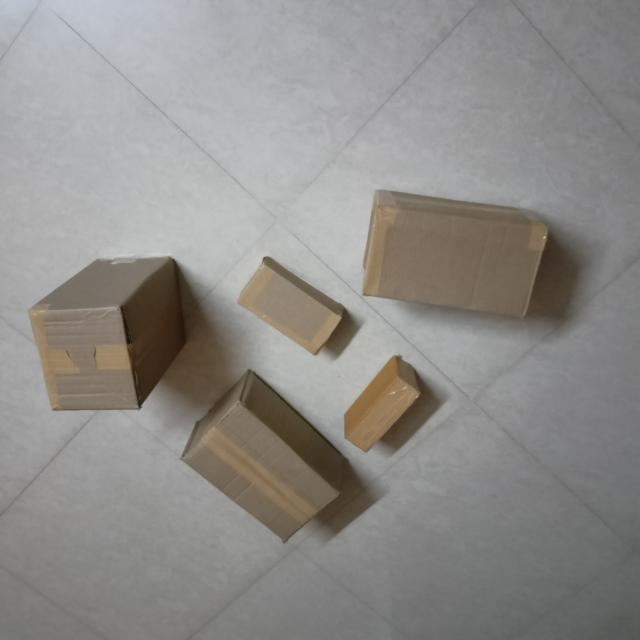box: (184, 407, 344, 543), (361, 203, 548, 319), (39, 311, 141, 413), (239, 264, 342, 355), (344, 381, 425, 455)
